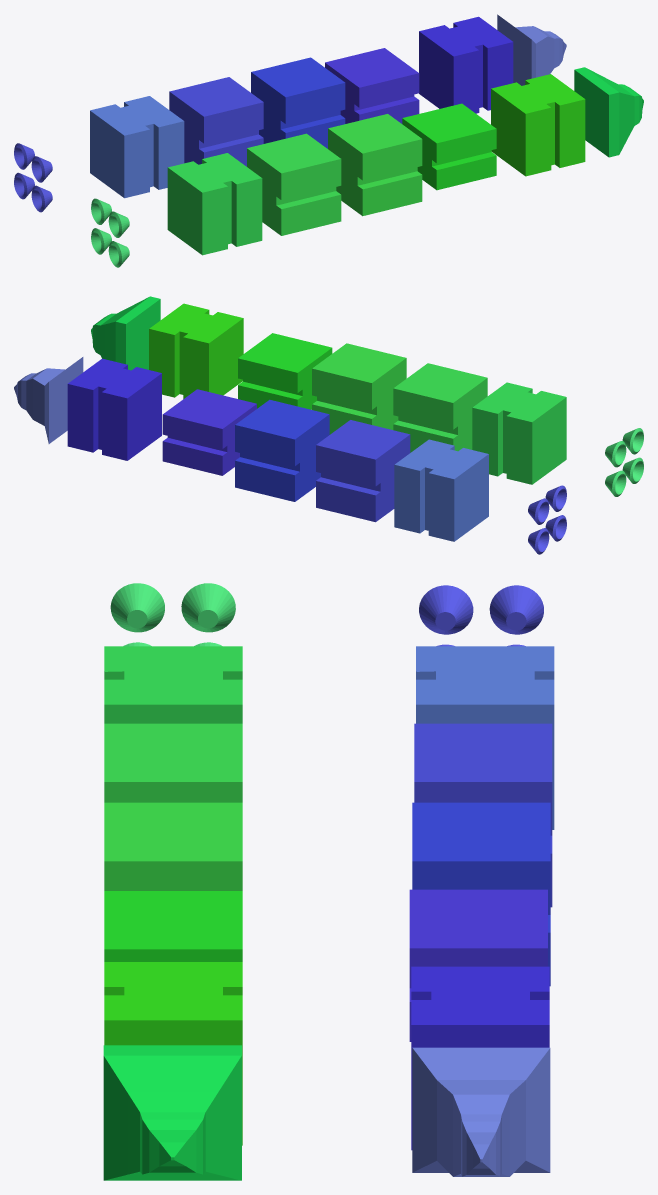
Rendered from ship_part.glb.
The picture shows the model from 3 angles, top to bottom: view 1: azimuth 30°, elevation 25°; view 2: azimuth 150°, elevation 25°; view 3: azimuth 270°, elevation 25°; orthographic projection. The views are drawn at different scales.
Parts seen in each view (by area): view 1: generator_01, extra_01, generator_02, armoury_01, command_01, extra_02, armoury_02, command_02, hangar_01, hangar_02, prow_01, prow_02 (+2 smaller); view 2: generator_02, extra_02, generator_01, armoury_02, command_02, extra_01, armoury_01, command_01, hangar_02, hangar_01, prow_01, prow_02 (+2 smaller); view 3: prow_01, prow_02, armoury_02, armoury_01, extra_01, extra_02, command_02, generator_02, command_01, hangar_02, generator_01, hangar_01 (+2 smaller).
Boxes of the visible parts, x1,y1,x2,y2 form: generator_01: (167, 153, 262, 255); extra_01: (491, 74, 585, 176); generator_02: (90, 96, 184, 198); armoury_01: (328, 114, 422, 216); command_01: (247, 133, 341, 235); extra_02: (419, 16, 513, 113); armoury_02: (251, 57, 345, 148); command_02: (169, 77, 263, 166); hangar_01: (402, 103, 496, 190); hangar_02: (325, 48, 419, 123); prow_01: (574, 67, 643, 157); prow_02: (497, 14, 566, 85); generator_02: (394, 439, 488, 541); extra_02: (67, 358, 161, 460); generator_01: (472, 382, 566, 484); armoury_02: (235, 399, 329, 501); command_02: (316, 420, 410, 522); extra_01: (149, 303, 243, 398); armoury_01: (312, 343, 406, 434); command_01: (393, 363, 487, 452); hangar_02: (162, 389, 256, 475); hangar_01: (238, 333, 332, 409); prow_01: (91, 296, 160, 370); prow_02: (14, 357, 83, 443); prow_01: (103, 1045, 241, 1180); prow_02: (412, 1047, 550, 1176); armoury_02: (412, 802, 550, 986); armoury_01: (104, 802, 242, 890); extra_01: (104, 962, 242, 1145); extra_02: (411, 966, 549, 1150); command_02: (414, 723, 552, 907); generator_02: (416, 646, 554, 829); command_01: (104, 723, 242, 802); hangar_02: (409, 889, 547, 1041); generator_01: (104, 646, 242, 723); hangar_01: (104, 891, 242, 961).
Size of the model in its own units: 18 by 2.07 by 6.52.
